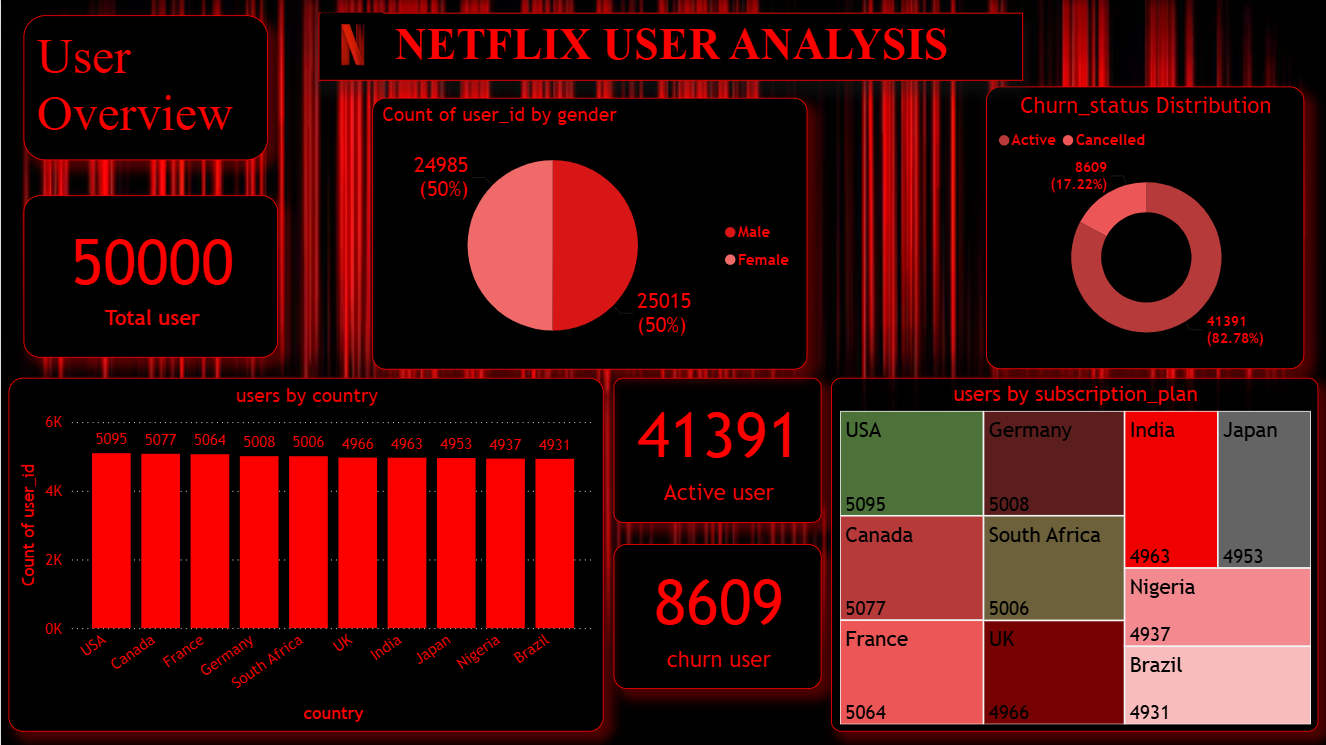

The dashboard page shown, as its layout file describes it:
{"tool":"powerbi","page":{"name":"UO","canvas":[1280,720],"ordinal":0},"visuals":[{"type":"cardVisual","fields":{"Data":["Count(archive.user_id)"]},"box":[21.8,188.9,245.5,156.8],"z":0},{"type":"cardVisual","fields":{"Data":["CountNonNull(archive.churn_status)"]},"box":[591.2,365,200.5,140.1],"z":1000},{"type":"donutChart","title":"Churn_status Distribution","fields":{"Category":["archive.churn_status"],"Y":["CountNonNull(archive.user_id)"]},"box":[951,84.8,307.1,272.4],"z":2000},{"type":"cardVisual","fields":{"Data":["CountNonNull(archive.churn_status)"]},"box":[591.2,525.6,200.5,140.1],"z":3000},{"type":"pieChart","fields":{"Category":["archive.gender"],"Y":["CountNonNull(archive.user_id)"]},"box":[358.6,95.1,420.2,262.2],"z":4000},{"type":"clusteredColumnChart","title":"users by country","fields":{"Category":["archive.country"],"Y":["CountNonNull(archive.user_id)"]},"box":[7.7,365,574.5,341.8],"z":5000},{"type":"treemap","title":"users  by subscription_plan","fields":{"Values":["CountNonNull(archive.user_id)"],"Group":["archive.country","archive.subscription_plan"]},"box":[800.6,365,470.4,341.8],"z":6000},{"type":"textbox","box":[22,15.1,236,140],"z":7000},{"type":"textbox","box":[305.9,12.9,679.8,65.5],"z":8000},{"type":"image","box":[294.3,9,88.7,69.4],"z":9000}]}

Visuals, with their boxes in screenshot pixels (x1, y1, x2, y2), scaled from the page's 1280x720 canvas onto the 1326x745 screenshot:
cardVisual - Count(archive.user_id): (left=23, top=195, right=277, bottom=358)
cardVisual - CountNonNull(archive.churn_status): (left=612, top=378, right=820, bottom=523)
"Churn_status Distribution" donutChart: (left=985, top=88, right=1303, bottom=370)
cardVisual - CountNonNull(archive.churn_status): (left=612, top=544, right=820, bottom=689)
pieChart - archive.gender x CountNonNull(archive.user_id): (left=371, top=98, right=807, bottom=370)
"users by country" clusteredColumnChart: (left=8, top=378, right=603, bottom=731)
"users  by subscription_plan" treemap: (left=829, top=378, right=1317, bottom=731)
textbox: (left=23, top=16, right=267, bottom=160)
textbox: (left=317, top=13, right=1021, bottom=81)
image: (left=305, top=9, right=397, bottom=81)
